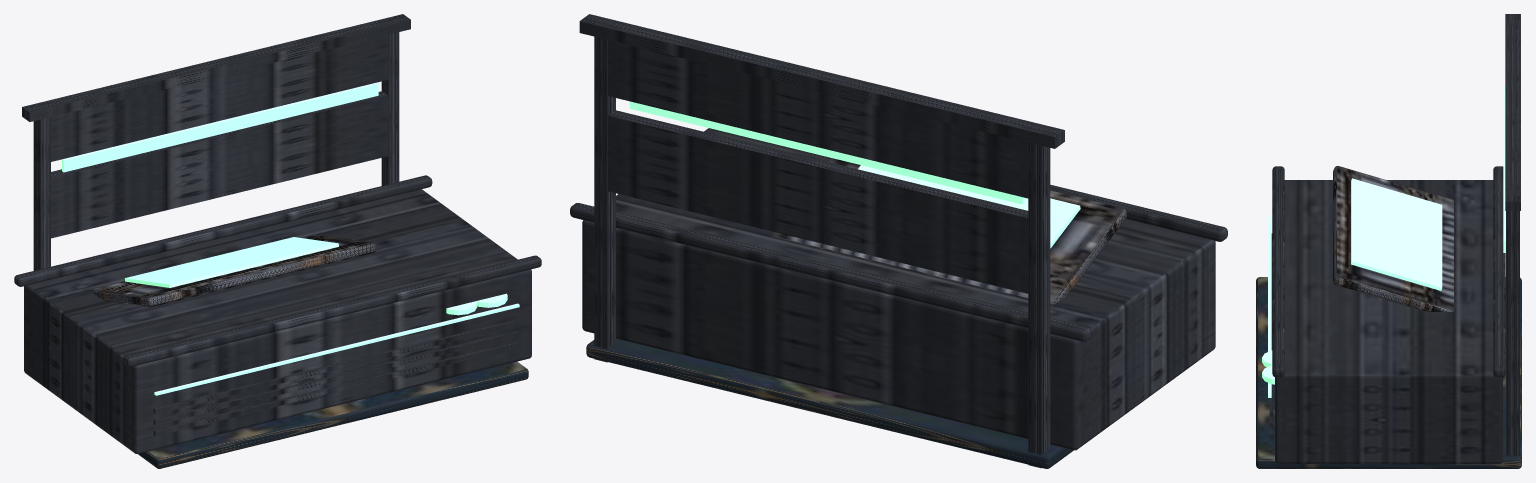
File: ecosys_climate.glb
The picture shows the model from 3 angles, left to right: view 1: azimuth 30°, elevation 25°; view 2: azimuth 150°, elevation 25°; view 3: azimuth 270°, elevation 25°; orthographic projection. The views are drawn at different scales.
Visible parts, largest first — view 1: base, sight_shell, toe, lip0, lip2, deck, sightglow, screen, grille2, grille1, grille0, toplight; view 2: sight_shell, base, toe, lip2, deck, sightglow, lip0, screen; view 3: base, screen, deck, sight_shell, toe, lip0, lip2, toplight, sightglow, grille2.
Boxes of the visible parts, left/top/right/bottom form: base: left=24, top=189, right=531, bottom=453; sight_shell: left=22, top=14, right=410, bottom=270; toe: left=138, top=361, right=528, bottom=468; lip0: left=123, top=255, right=541, bottom=366; lip2: left=14, top=175, right=432, bottom=286; deck: left=91, top=234, right=376, bottom=307; sightglow: left=62, top=82, right=378, bottom=172; screen: left=124, top=237, right=338, bottom=287; grille2: left=153, top=319, right=518, bottom=413; grille1: left=153, top=330, right=518, bottom=425; grille0: left=153, top=341, right=518, bottom=436; toplight: left=154, top=303, right=519, bottom=395; sight_shell: left=579, top=14, right=1064, bottom=468; base: left=582, top=128, right=1215, bottom=450; toe: left=586, top=339, right=1073, bottom=468; lip2: left=570, top=203, right=1091, bottom=341; deck: left=771, top=157, right=1126, bottom=304; sightglow: left=629, top=101, right=1024, bottom=204; lip0: left=1050, top=184, right=1227, bottom=241; screen: left=858, top=165, right=1080, bottom=248; base: left=1275, top=180, right=1502, bottom=463; screen: left=1351, top=178, right=1442, bottom=290; deck: left=1333, top=166, right=1454, bottom=311; sight_shell: left=1505, top=14, right=1520, bottom=455; toe: left=1256, top=277, right=1521, bottom=468; lip0: left=1272, top=166, right=1284, bottom=377; lip2: left=1493, top=166, right=1505, bottom=377; toplight: left=1268, top=216, right=1271, bottom=397; sightglow: left=1503, top=86, right=1505, bottom=252; grille2: left=1269, top=233, right=1273, bottom=416.
Size of the model in its own units: 2.74 by 1.7 by 1.51.
Materials: 5 (4 with a texture image).
